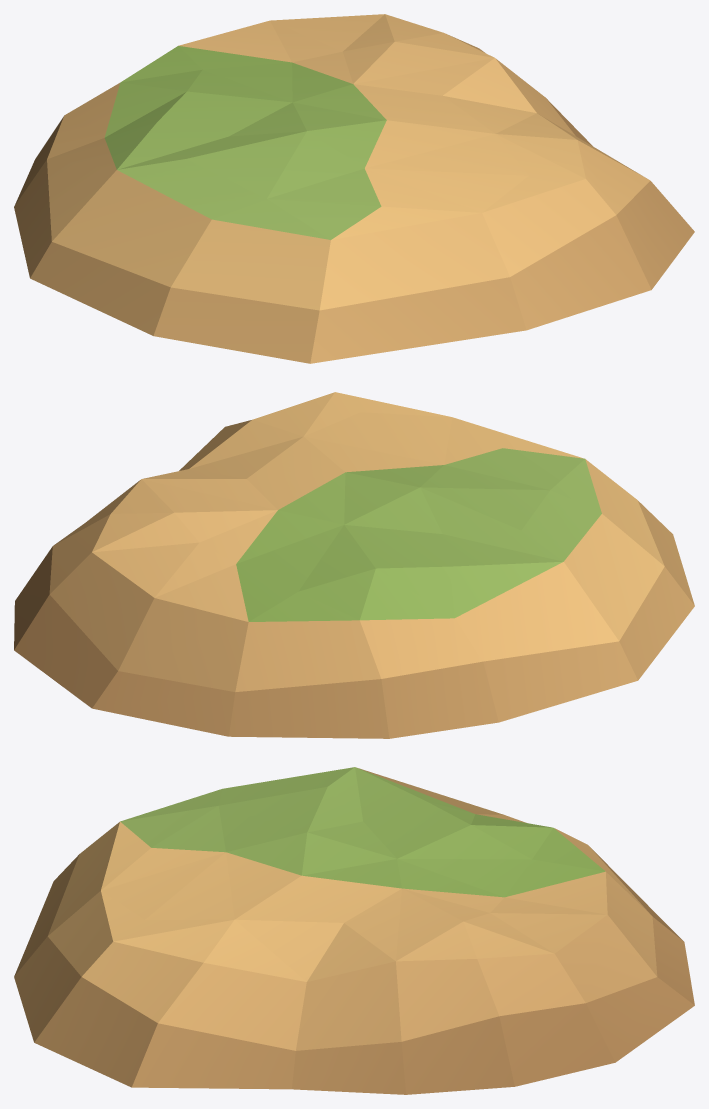
File: island-mountain-arch.glb
The picture shows the model from 3 angles, top to bottom: view 1: azimuth 30°, elevation 25°; view 2: azimuth 150°, elevation 25°; view 3: azimuth 270°, elevation 25°; orthographic projection.
Parts seen in each view (by area): view 1: island mountain arch; view 2: island mountain arch; view 3: island mountain arch.
Boxes of the visible parts, box(x1,y1,x2,y2) form: island mountain arch: box(14, 14, 694, 363); island mountain arch: box(14, 392, 694, 738); island mountain arch: box(14, 767, 694, 1094).
Size of the model in its own units: 15.6 by 2.9 by 16.42.
Materials: 1 (1 with a texture image).
